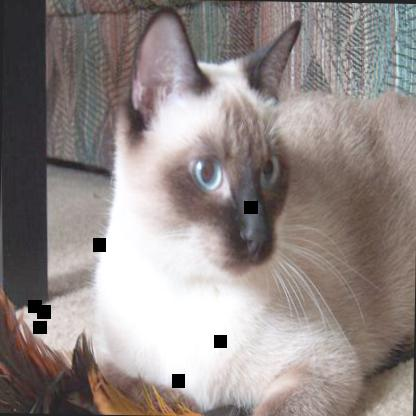cat: (95, 1, 415, 415)
